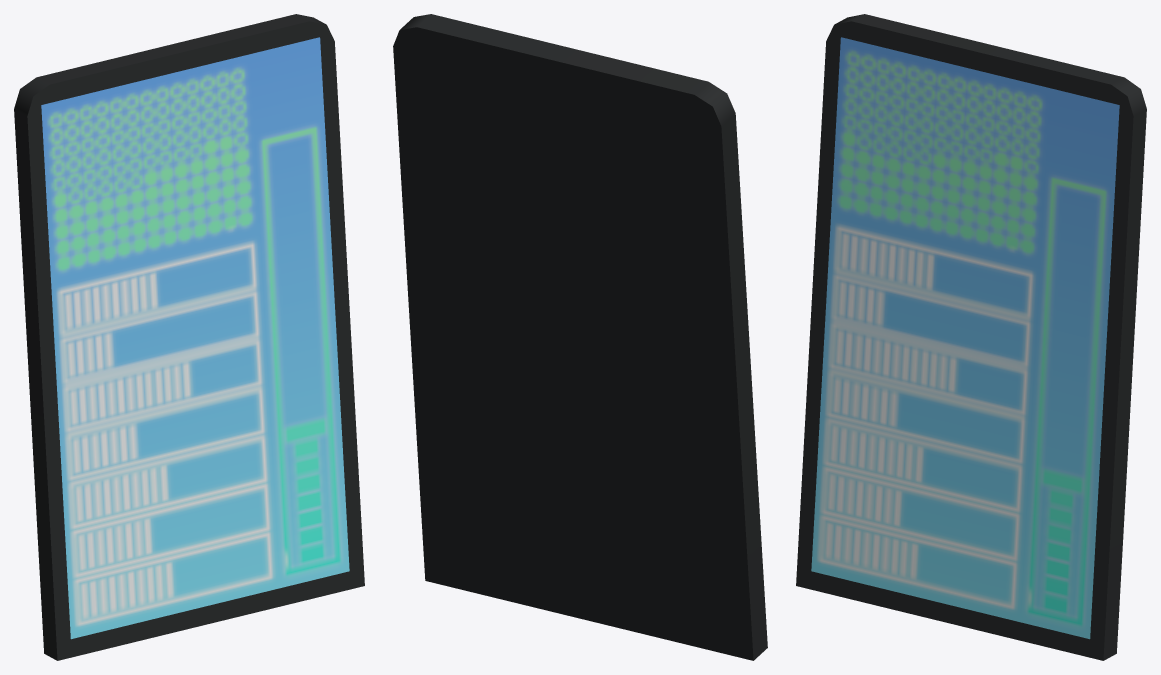
Rendered from Terminal_002_Monitor_002.fbx.
3 renders of one model, left to right at view 1: azimuth 30°, elevation 25°; view 2: azimuth 150°, elevation 25°; view 3: azimuth 330°, elevation 25°, orthographic. The views are drawn at different scales.
Parts seen in each view (by area): view 1: Terminal_002_Monitor_002; view 2: Terminal_002_Monitor_002; view 3: Terminal_002_Monitor_002.
Part boxes in pixels (<box>): Terminal_002_Monitor_002: <box>14,14,364,660</box>; Terminal_002_Monitor_002: <box>393,14,767,660</box>; Terminal_002_Monitor_002: <box>796,14,1146,660</box>.
Bounding box in the file's own units: 35.79 × 9.06 × 61.17.
